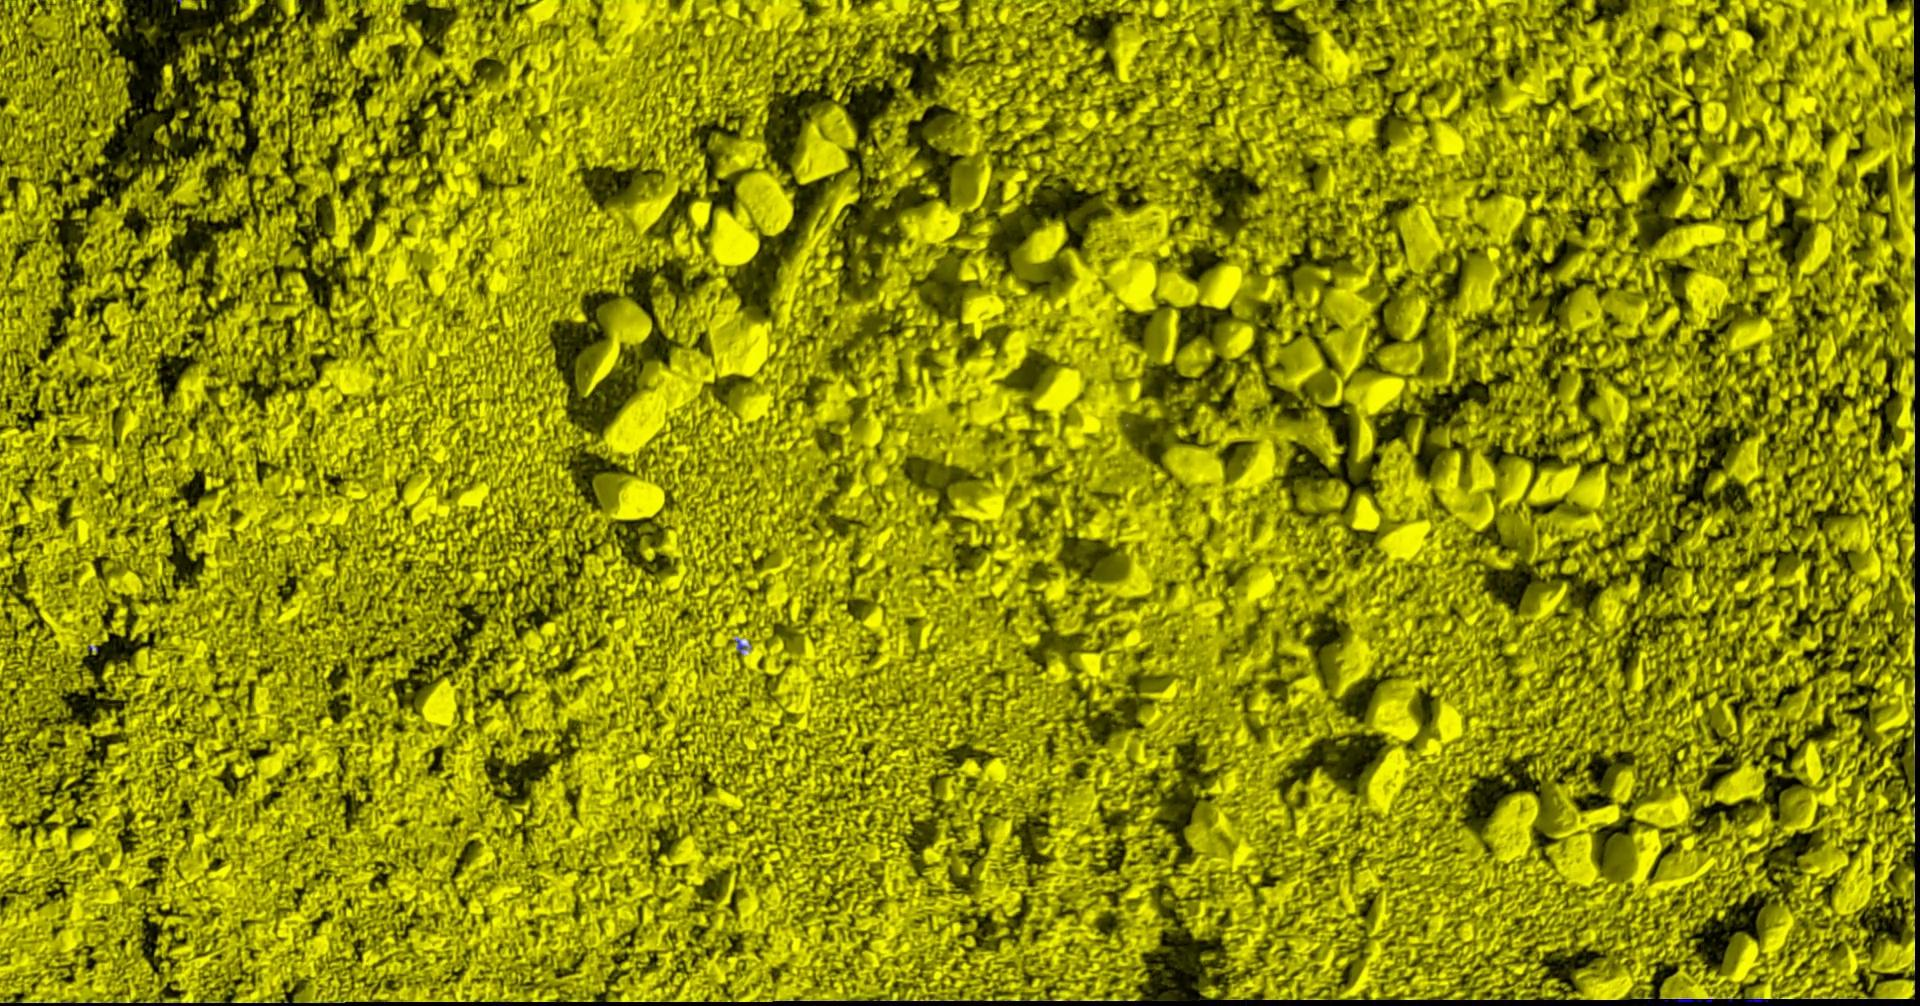ant: (1675, 998, 1714, 1002)
